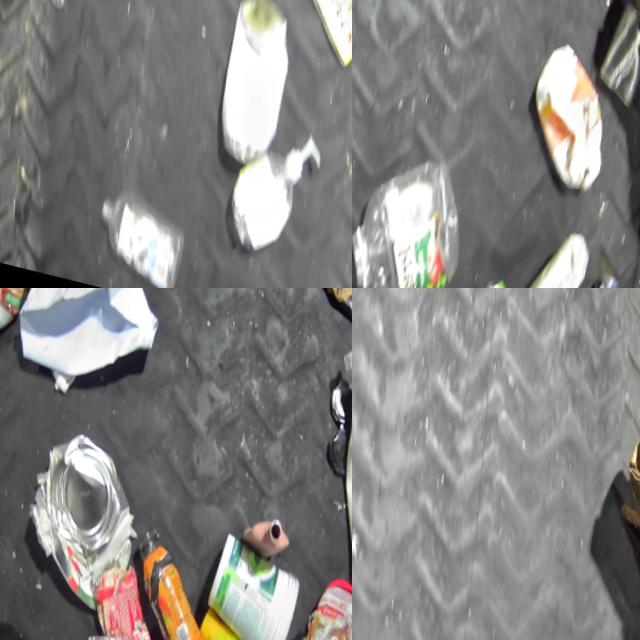can: (2, 414, 149, 617), (194, 0, 301, 171), (556, 253, 614, 288), (455, 261, 512, 288), (71, 622, 128, 640)
milk_jug: (0, 288, 171, 395), (314, 350, 352, 578)
non_white_jug: (509, 24, 615, 188)
plastic_bottle: (352, 129, 470, 288), (77, 175, 189, 288)
